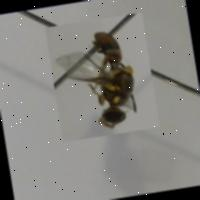Oriental-fruit-fly: (45, 12, 160, 142)
